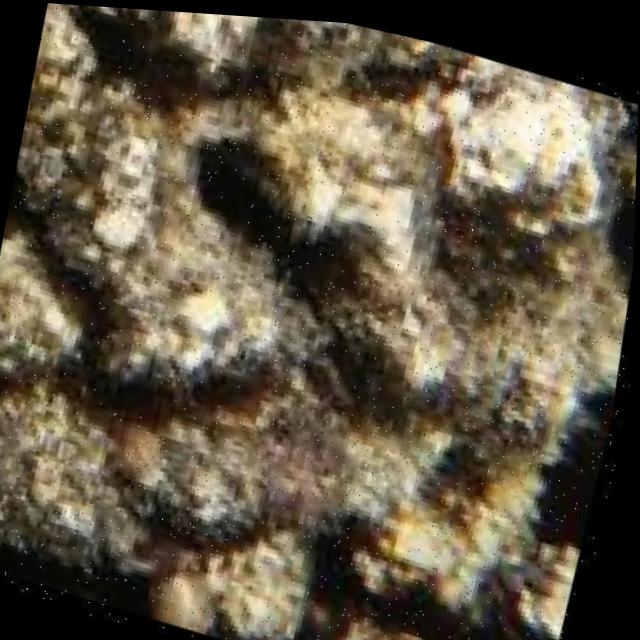Dead Coral: (0, 385, 162, 624), (142, 396, 296, 551), (0, 232, 94, 374)
